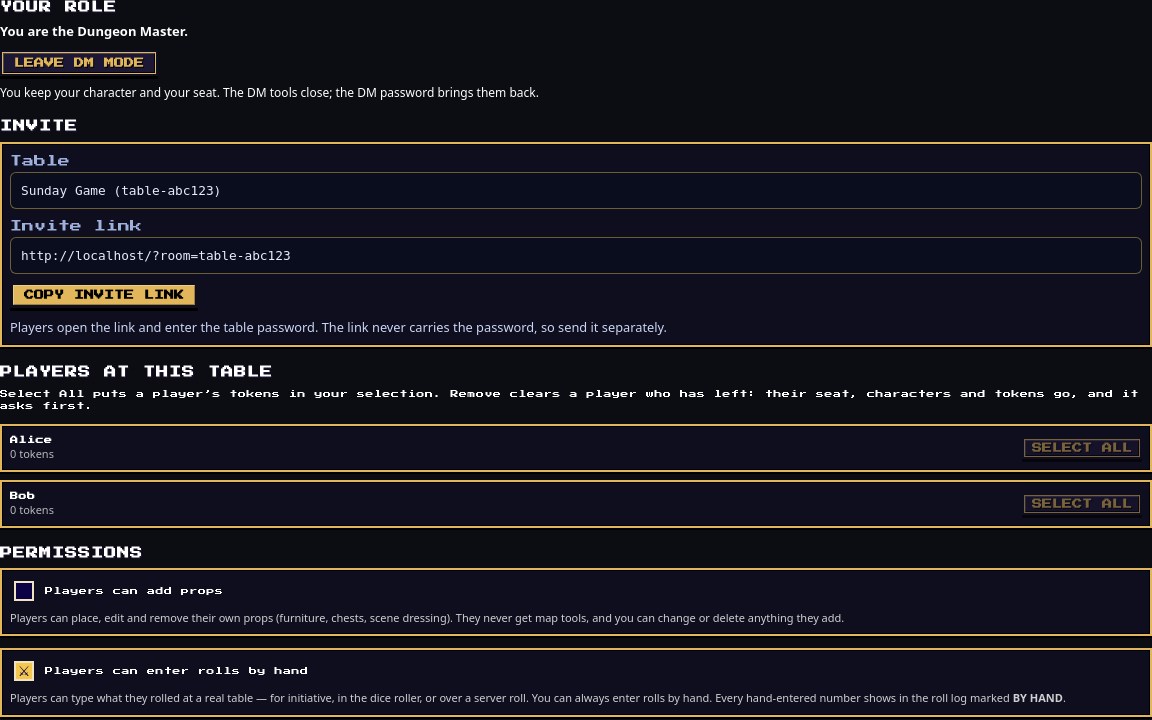
Test: TableTab — Invite › copies the link and says it never carries the password
What coordinates should you click on to do the following:
click the button "Copy invite link"
I would click on:
 (104, 295)
Its box is [10,282,198,308].
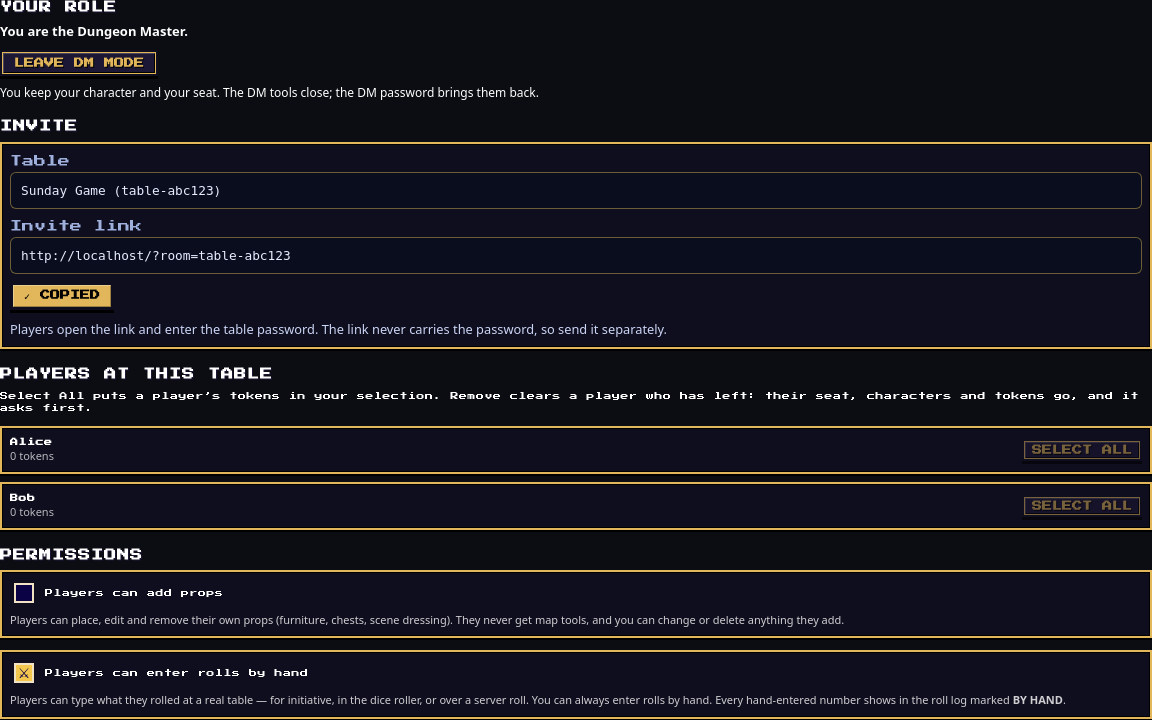
Check: the text "never carries the password" is shown, box [10,320,667,338]
Check: the button "✓ Copied" is shown, box [10,282,114,310]
